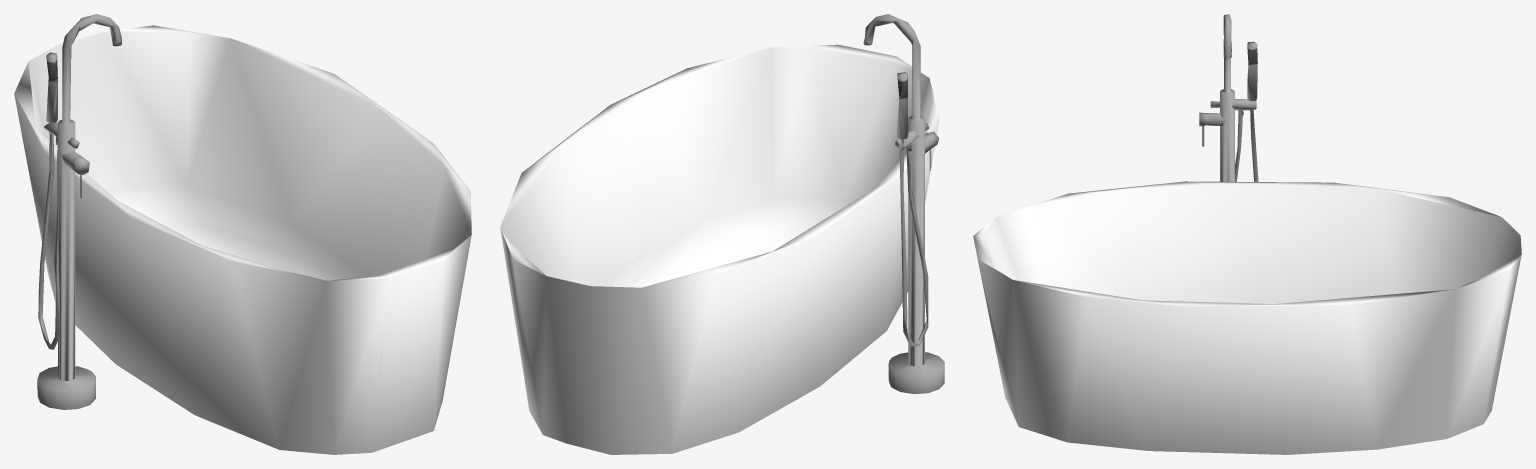
Rendered from Bathtub0002.obj.
The picture shows the model from 3 angles, left to right: view 1: azimuth 30°, elevation 25°; view 2: azimuth 150°, elevation 25°; view 3: azimuth 270°, elevation 25°; orthographic projection. The views are drawn at different scales.
Bounding box in the file's own units: 1.11 × 1.1 × 1.7.
Materials: 1 (1 with a texture image).
